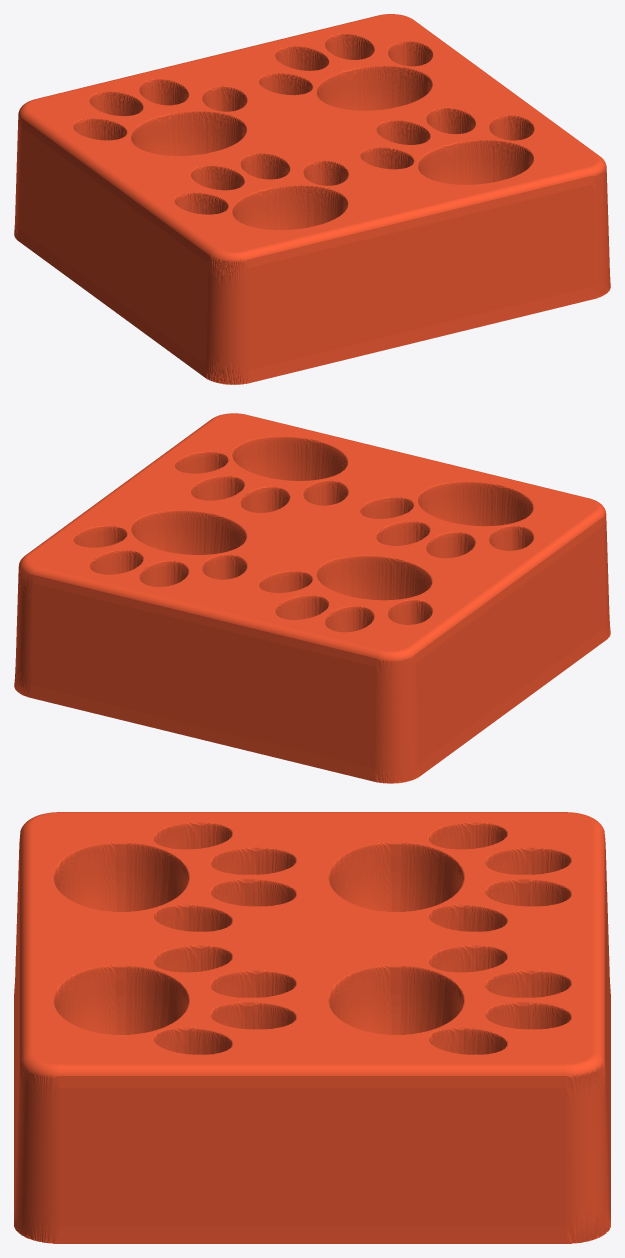
Rendered from mold.glb.
3 views of the same model, one above another, from view 1: azimuth 30°, elevation 25°; view 2: azimuth 150°, elevation 25°; view 3: azimuth 270°, elevation 25° (orthographic). The views are drawn at different scales.
Parts seen in each view (by area): view 1: geometry_0; view 2: geometry_0; view 3: geometry_0.
Part boxes in pixels (box(x1,y1,x2,y2)): geometry_0: box(14, 14, 610, 384); geometry_0: box(14, 413, 610, 783); geometry_0: box(14, 812, 610, 1243).
Bounding box in the file's own units: 0.1248 × 0.0377 × 0.1184.
